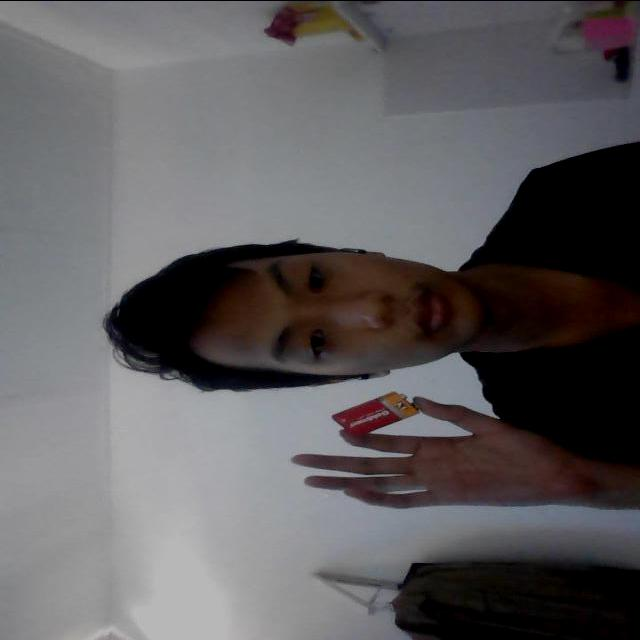9V: (313, 387, 438, 446)
